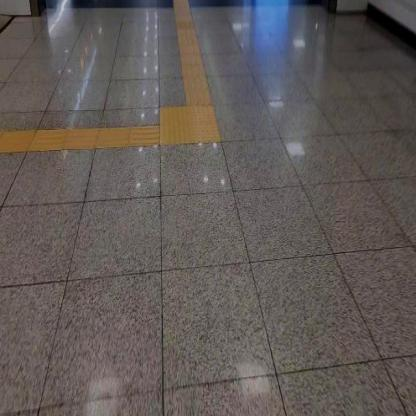podotacti: (145, 88, 238, 169), (0, 123, 160, 153), (173, 0, 214, 105)
